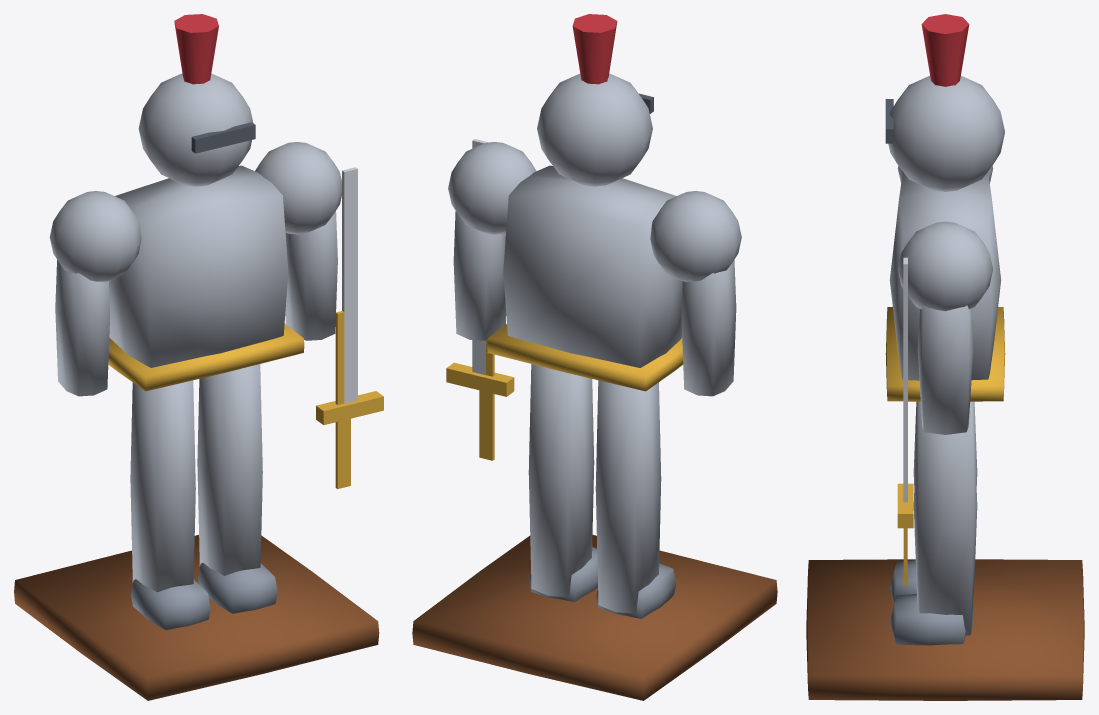
The model's file is armour_stand.glb.
3 views of the same model, side by side, from view 1: azimuth 30°, elevation 25°; view 2: azimuth 150°, elevation 25°; view 3: azimuth 270°, elevation 25° (orthographic). The views are drawn at different scales.
Parts seen in each view (by area): view 1: root; view 2: root; view 3: root.
Boxes of the visible parts, x1,y1,x2,y2 form: root: (14,14,383,700); root: (412,14,777,700); root: (806,14,1084,700).
Bounding box in the file's own units: 0.91 × 1.72 × 0.7.
